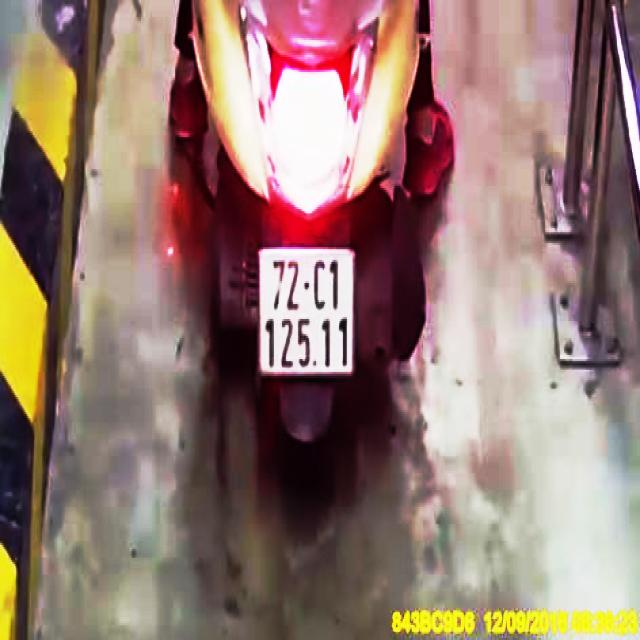license_plate: (259, 249, 355, 375)
